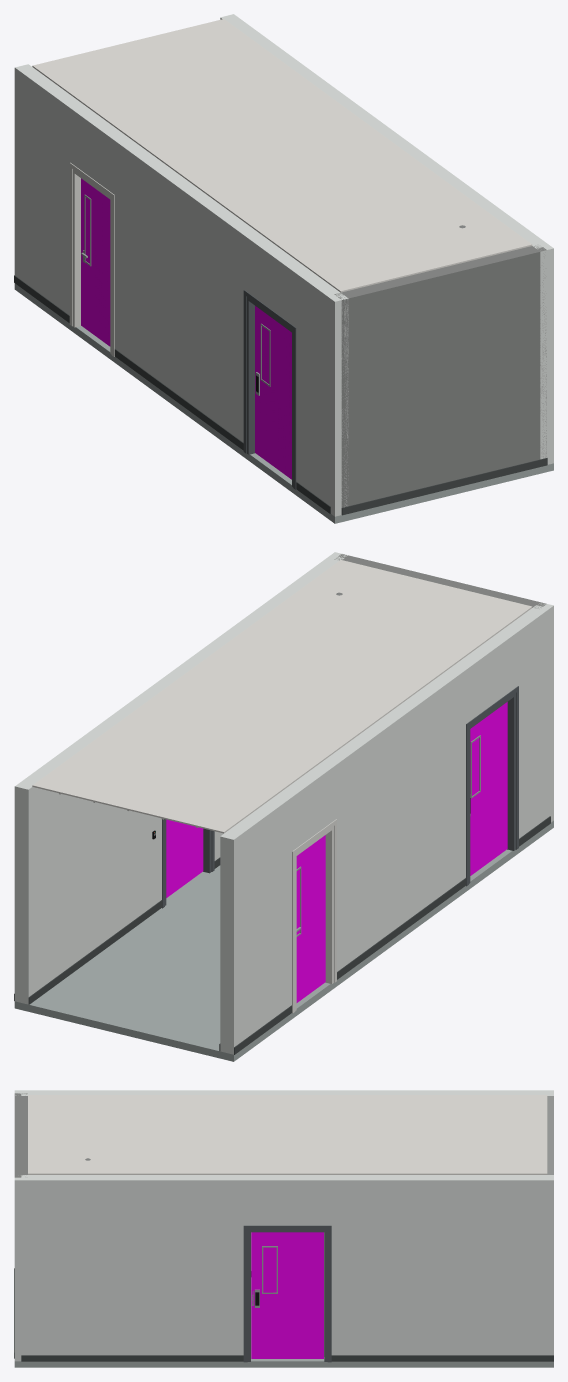
The model's file is ENV_RestrictedResearchCorridor_8m.glb.
The picture shows the model from 3 angles, top to bottom: view 1: azimuth 30°, elevation 25°; view 2: azimuth 150°, elevation 25°; view 3: azimuth 270°, elevation 25°; orthographic projection. The views are drawn at different scales.
Visible parts, largest first — view 1: ENV_RestrictedResearchCorridor_8m_Architecture, ENV_RestrictedResearchCorridor_8m_Ceiling, ENV_RestrictedResearchCorridor_8m_Posts, DOOR_Secure_Single_1200_Leaf_COL-colonly.002, DOOR_Interior_Single_1000_Leaf_COL-colonly.005, DOOR_Secure_Single_1200_Frame.002, DOOR_Interior_Single_1000_Frame.005; view 2: ENV_RestrictedResearchCorridor_8m_Architecture, ENV_RestrictedResearchCorridor_8m_Ceiling, DOOR_Secure_Single_1200_Leaf_COL-colonly.002, DOOR_Interior_Single_1000_Leaf_COL-colonly.005, DOOR_Secure_Single_1200_Frame.002, DOOR_Interior_Single_1000_Frame.005, DOOR_Secure_Single_1200_Leaf_COL-colonly.001, ENV_RestrictedResearchCorridor_8m_Posts, DOOR_Secure_Single_1200_Frame.001; view 3: ENV_RestrictedResearchCorridor_8m_Architecture, ENV_RestrictedResearchCorridor_8m_Ceiling, DOOR_Secure_Single_1200_Leaf_COL-colonly.001, DOOR_Secure_Single_1200_Frame.001, ENV_RestrictedResearchCorridor_8m_Posts, DOOR_Secure_Single_1200_Leaf.001.
Boxes of the visible parts, box(x1,y1,x2,y2) form: ENV_RestrictedResearchCorridor_8m_Architecture: box(14, 14, 553, 523); ENV_RestrictedResearchCorridor_8m_Ceiling: box(32, 19, 532, 292); ENV_RestrictedResearchCorridor_8m_Posts: box(327, 243, 553, 516); DOOR_Secure_Single_1200_Leaf_COL-colonly.002: box(255, 306, 291, 479); DOOR_Interior_Single_1000_Leaf_COL-colonly.005: box(81, 178, 110, 346); DOOR_Secure_Single_1200_Frame.002: box(243, 290, 296, 489); DOOR_Interior_Single_1000_Frame.005: box(69, 162, 114, 356); ENV_RestrictedResearchCorridor_8m_Architecture: box(14, 554, 553, 1061); ENV_RestrictedResearchCorridor_8m_Ceiling: box(32, 560, 532, 833); DOOR_Secure_Single_1200_Leaf_COL-colonly.002: box(470, 702, 507, 875); DOOR_Interior_Single_1000_Leaf_COL-colonly.005: box(296, 835, 325, 1002); DOOR_Secure_Single_1200_Frame.002: box(466, 686, 518, 886); DOOR_Interior_Single_1000_Frame.005: box(292, 819, 336, 1013); DOOR_Secure_Single_1200_Leaf_COL-colonly.001: box(166, 819, 203, 897); ENV_RestrictedResearchCorridor_8m_Posts: box(328, 552, 553, 822); DOOR_Secure_Single_1200_Frame.001: box(162, 819, 214, 908); ENV_RestrictedResearchCorridor_8m_Architecture: box(14, 1090, 553, 1367); ENV_RestrictedResearchCorridor_8m_Ceiling: box(28, 1095, 547, 1174); DOOR_Secure_Single_1200_Leaf_COL-colonly.001: box(251, 1232, 323, 1358); DOOR_Secure_Single_1200_Frame.001: box(243, 1225, 331, 1362); ENV_RestrictedResearchCorridor_8m_Posts: box(14, 1090, 27, 1361); DOOR_Secure_Single_1200_Leaf.001: box(252, 1232, 324, 1356).
Size of what is drawn, in the model's own units: 3.26 by 3.13 by 8.11.
